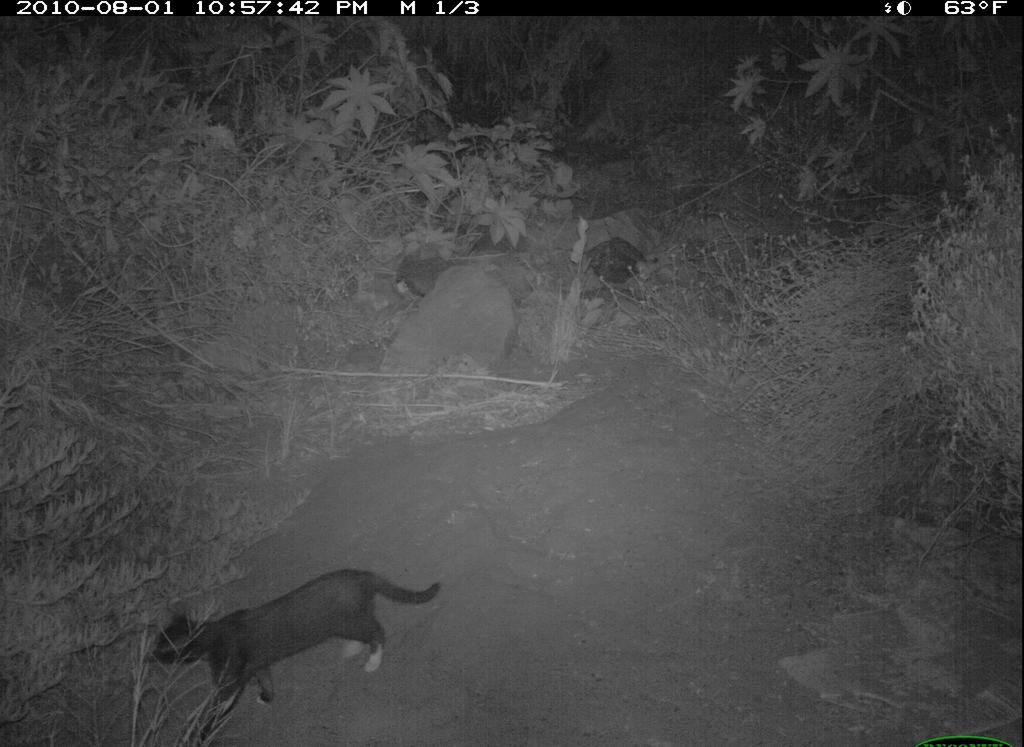cat: (145, 560, 463, 730)
